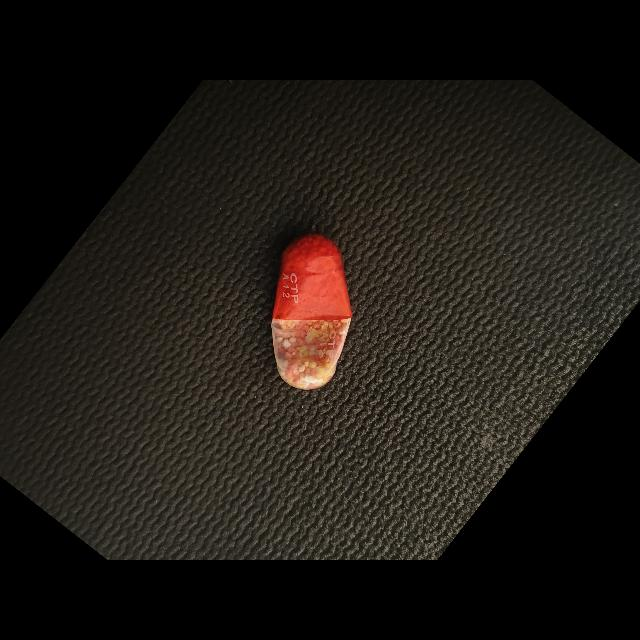Defective Capsule: (271, 234, 353, 390)
